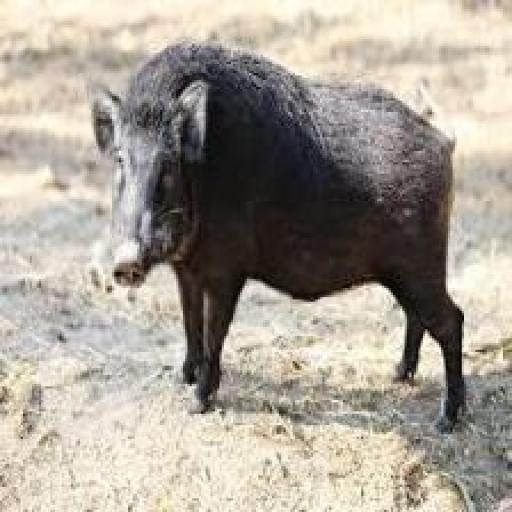Pig: (85, 36, 474, 446)
